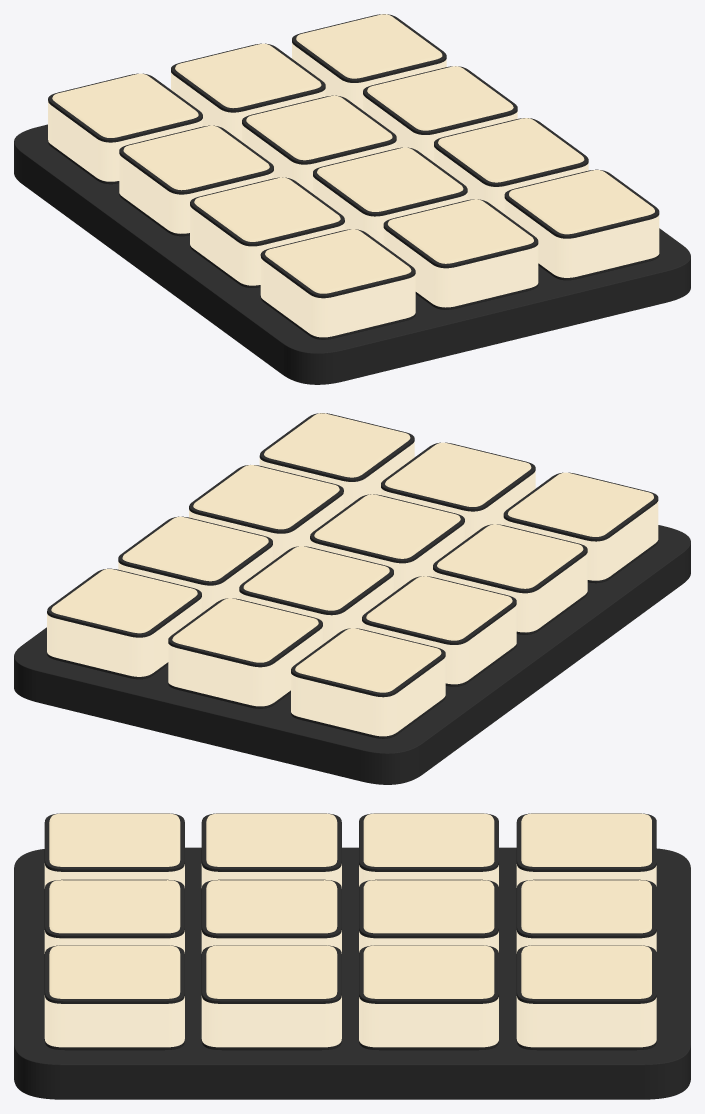
File: 卧室吸顶灯.fbx
3 renders of one model, top to bottom at view 1: azimuth 30°, elevation 25°; view 2: azimuth 150°, elevation 25°; view 3: azimuth 270°, elevation 25°, orthographic. The views are drawn at different scales.
Parts seen in each view (by area): view 1: Box01, Box13, Box12, Box11, 对象04, 对象03, 对象09, 对象08, 对象05, 对象02, 对象01, 对象12 (+13 smaller); view 2: Box01, Box02, Box03, Box04, 对象02, 对象01, 对象10, 对象08, 对象05, 对象07, 对象09, 对象04 (+13 smaller); view 3: Box01, Box08, Box04, Box11, Box05, 对象06, 对象05, 对象04, 对象12, 对象11, 对象10, 对象08 (+13 smaller).
Boxes of the visible parts, x1=… form: Box01: x1=14, y1=124, x2=690, y2=384; Box13: x1=260, y1=229, x2=415, y2=339; Box12: x1=383, y1=199, x2=538, y2=309; Box11: x1=504, y1=169, x2=659, y2=280; 对象04: x1=367, y1=66, x2=513, y2=130; 对象03: x1=296, y1=14, x2=442, y2=78; 对象09: x1=194, y1=177, x2=340, y2=241; 对象08: x1=317, y1=147, x2=463, y2=211; 对象05: x1=246, y1=95, x2=392, y2=160; 对象02: x1=175, y1=43, x2=321, y2=108; 对象01: x1=52, y1=73, x2=198, y2=137; 对象12: x1=265, y1=229, x2=411, y2=293; Box01: x1=14, y1=525, x2=690, y2=784; Box02: x1=291, y1=628, x2=445, y2=738; Box03: x1=168, y1=598, x2=322, y2=708; Box04: x1=47, y1=568, x2=201, y2=679; 对象02: x1=172, y1=598, x2=318, y2=662; 对象01: x1=295, y1=628, x2=441, y2=692; 对象10: x1=264, y1=413, x2=410, y2=477; 对象08: x1=314, y1=494, x2=460, y2=558; 对象05: x1=243, y1=546, x2=389, y2=610; 对象07: x1=193, y1=465, x2=339, y2=529; 对象09: x1=437, y1=524, x2=583, y2=588; 对象04: x1=122, y1=516, x2=268, y2=581; Box01: x1=14, y1=847, x2=690, y2=1099; Box08: x1=201, y1=945, x2=341, y2=1050; Box04: x1=516, y1=945, x2=656, y2=1050; Box11: x1=44, y1=945, x2=184, y2=1050; Box05: x1=359, y1=945, x2=498, y2=1050; 对象06: x1=363, y1=813, x2=494, y2=866; 对象05: x1=363, y1=880, x2=494, y2=933; 对象04: x1=363, y1=945, x2=494, y2=998; 对象12: x1=49, y1=813, x2=180, y2=866; 对象11: x1=49, y1=880, x2=180, y2=933; 对象10: x1=49, y1=945, x2=180, y2=998; 对象08: x1=206, y1=880, x2=337, y2=933.
Bounding box in the file's own units: 660 × 123 × 870.
